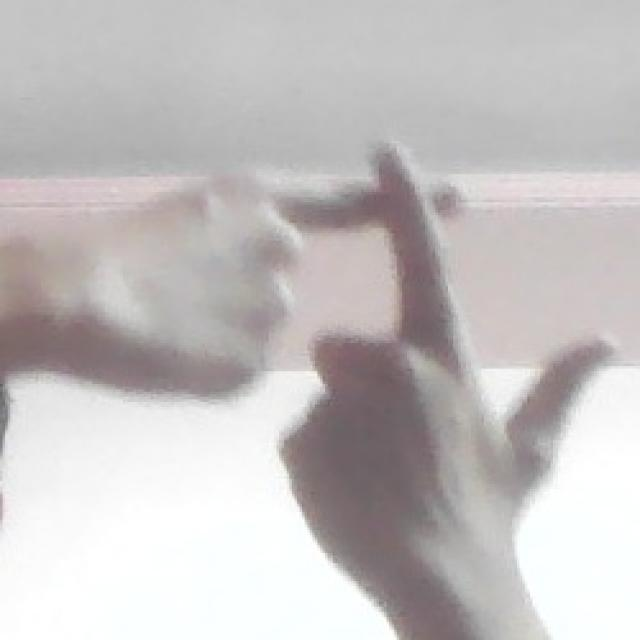Alphabet-J: (46, 144, 622, 557)
